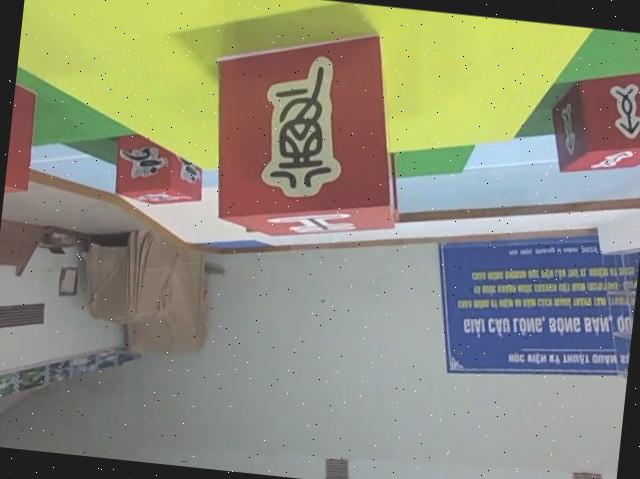R1: (109, 126, 208, 208)
R2 Fake: (198, 16, 415, 251)
R2 Real: (545, 60, 640, 184), (3, 66, 40, 201)
